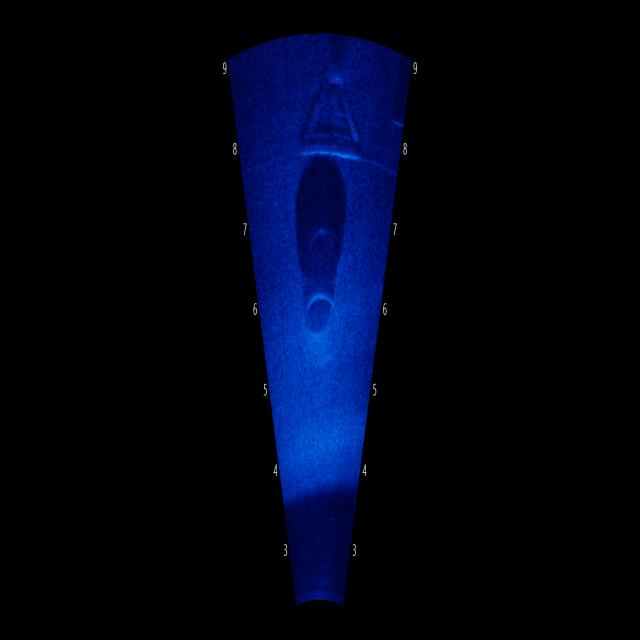circle: (290, 260, 349, 394)
triangle: (291, 48, 367, 168)
